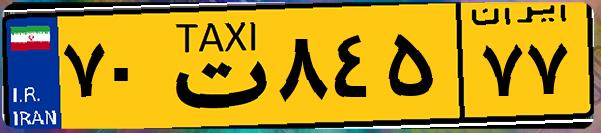0: (110, 28, 158, 98)
4: (330, 28, 385, 110)
5: (385, 28, 445, 110)
7: (57, 26, 110, 100), (475, 38, 525, 113), (525, 38, 570, 115)
8: (270, 28, 330, 110)
ت: (158, 12, 270, 120)
